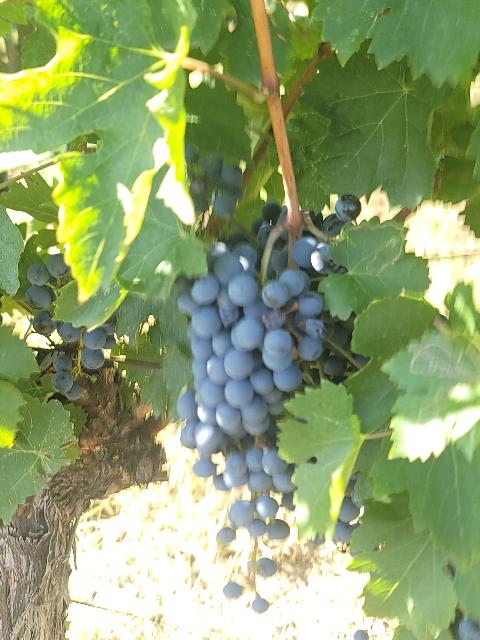grapes: (179, 242, 324, 458)
